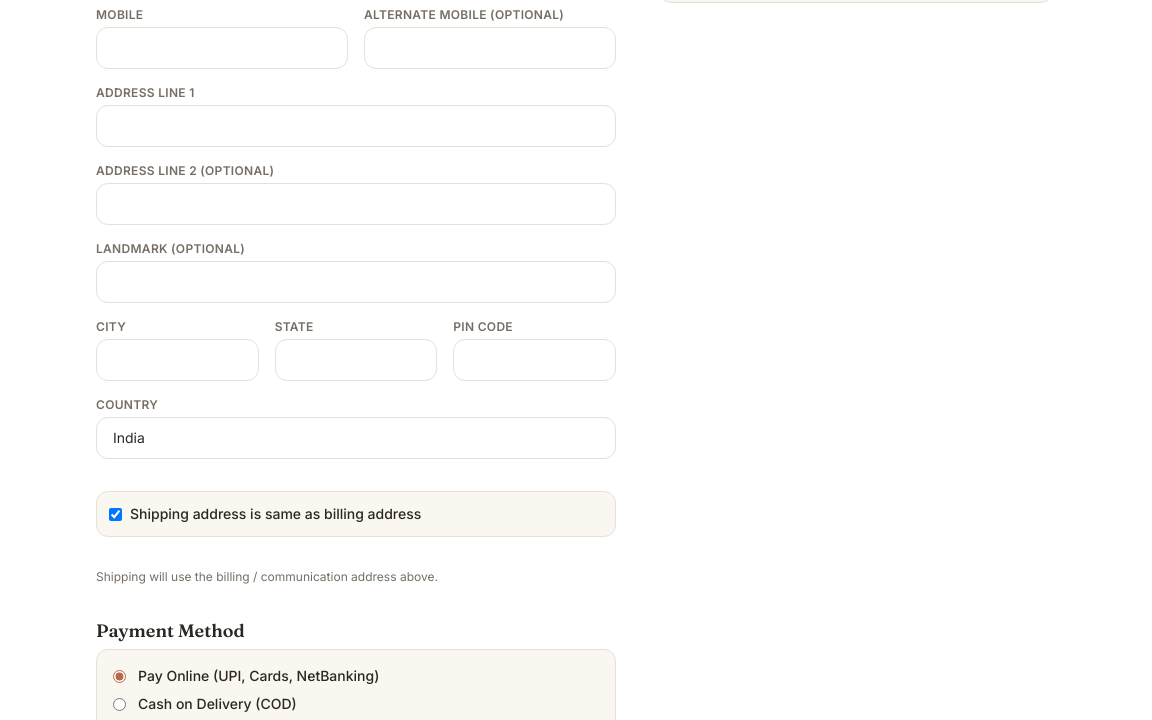
Test: Checkout delivery estimate › shows the estimated window for a serviceable pincode and sends the cart items
(page scrolled)
Type "560001" into the field labelled "PIN Code" at (535, 360), box [453,339,616,381]
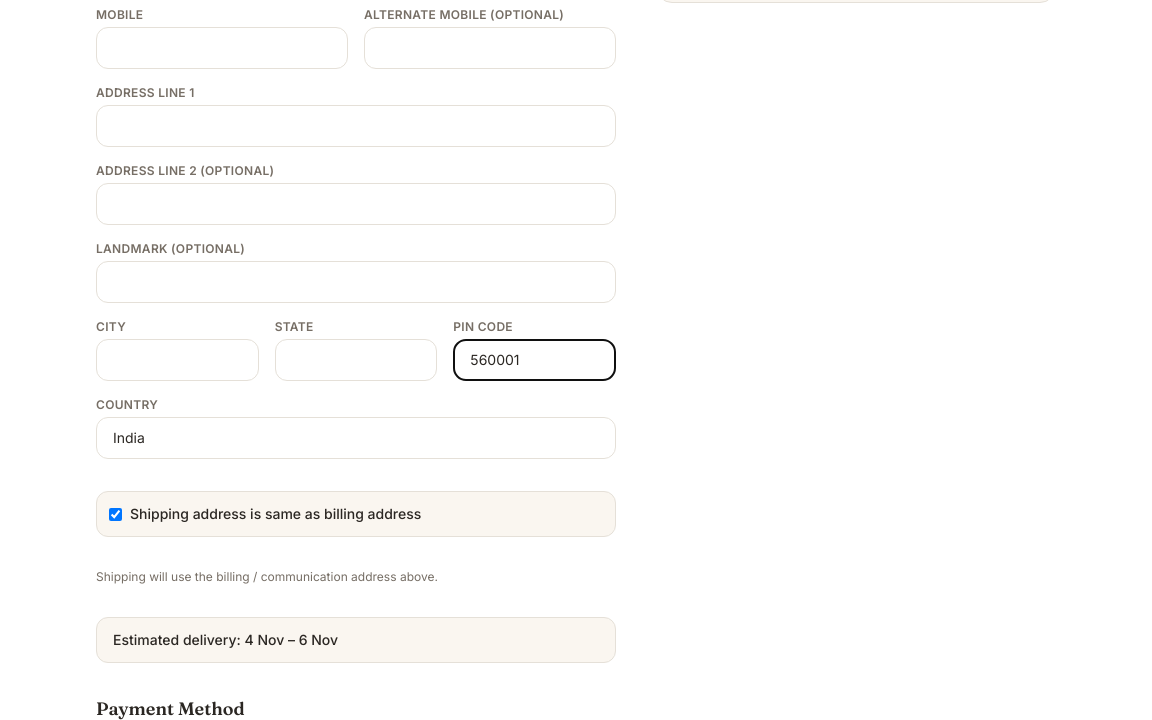
Now the text "Estimated delivery: 4 Nov – 6 Nov" is shown, box [113,631,338,648]
